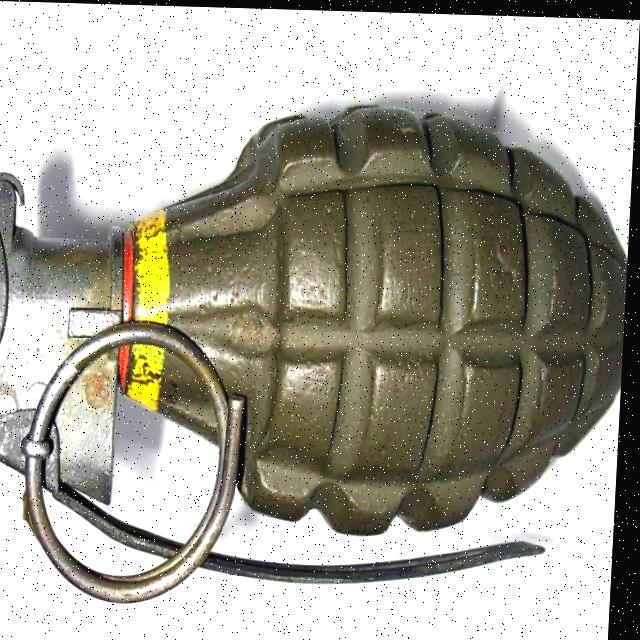grenade: (0, 84, 637, 605)
